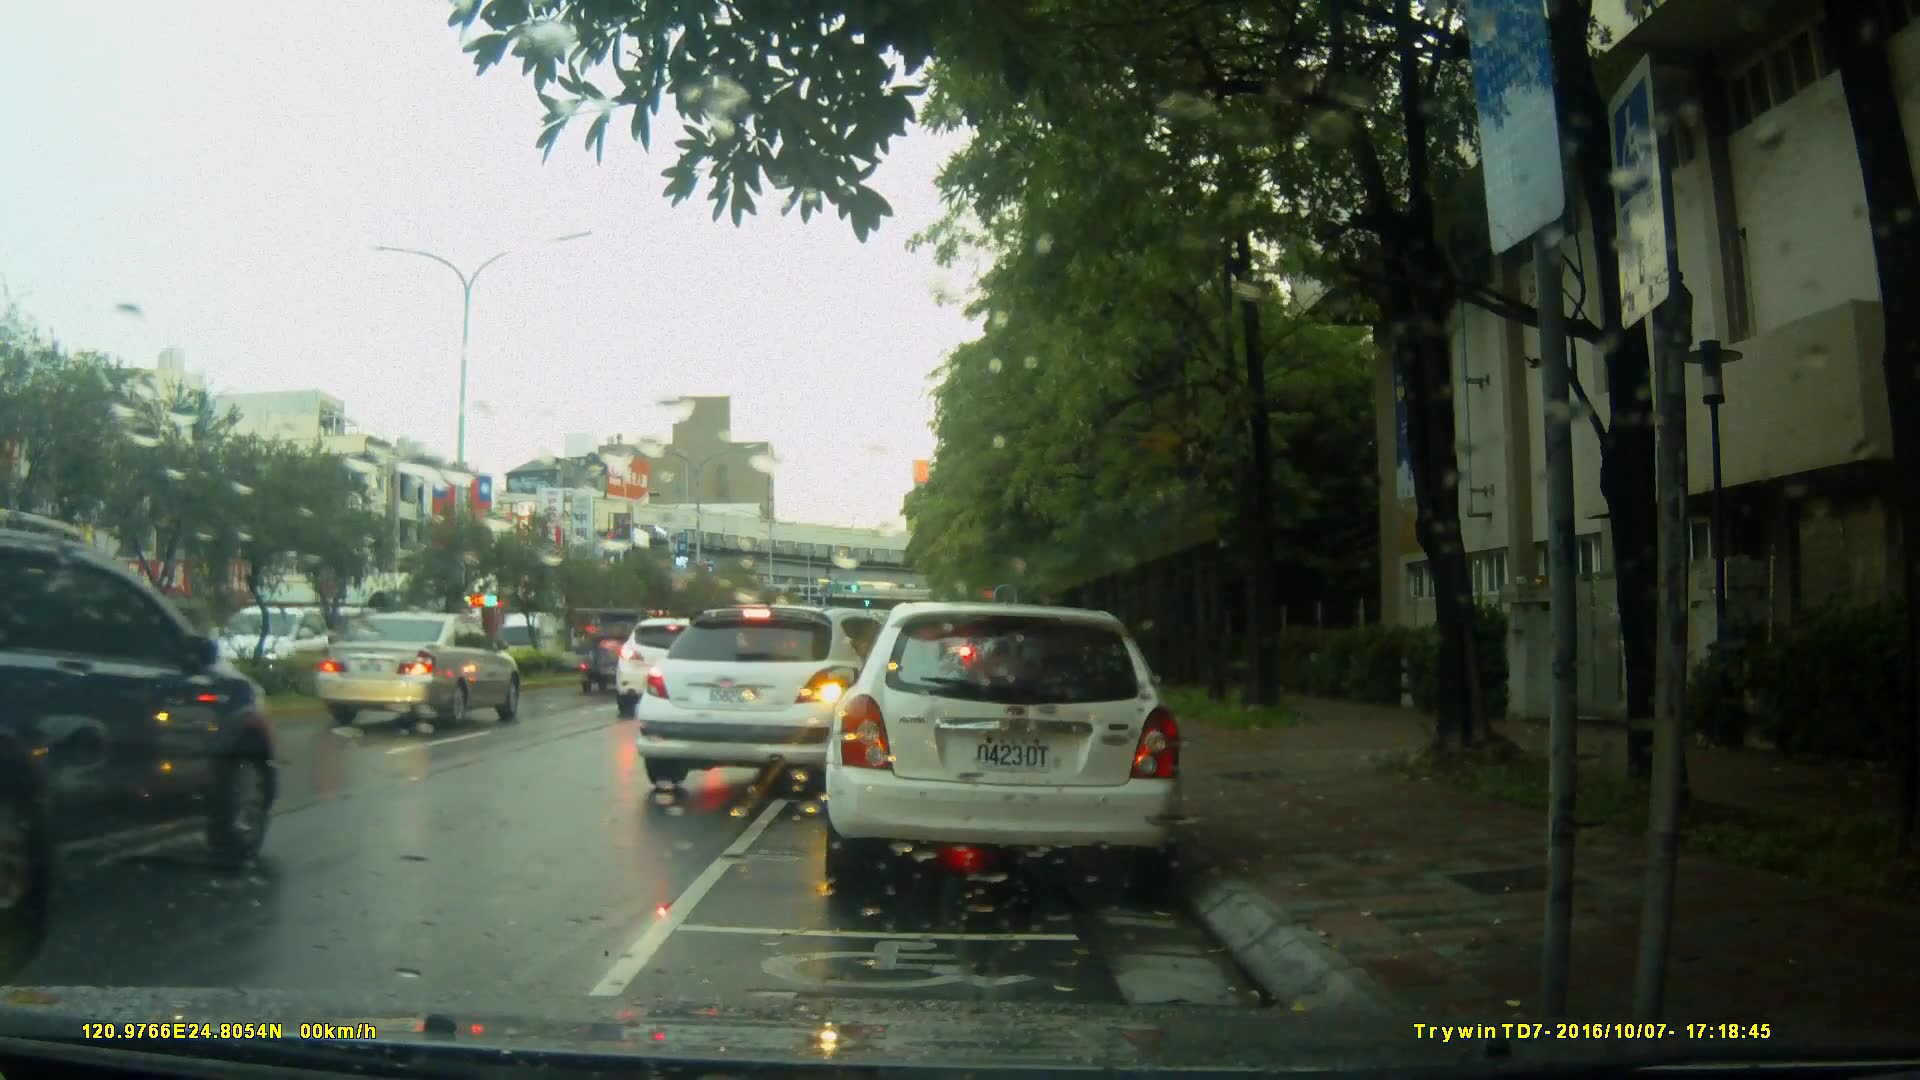vehicle: (5, 517, 284, 914), (820, 603, 1188, 898), (636, 603, 943, 800), (313, 612, 522, 729)
